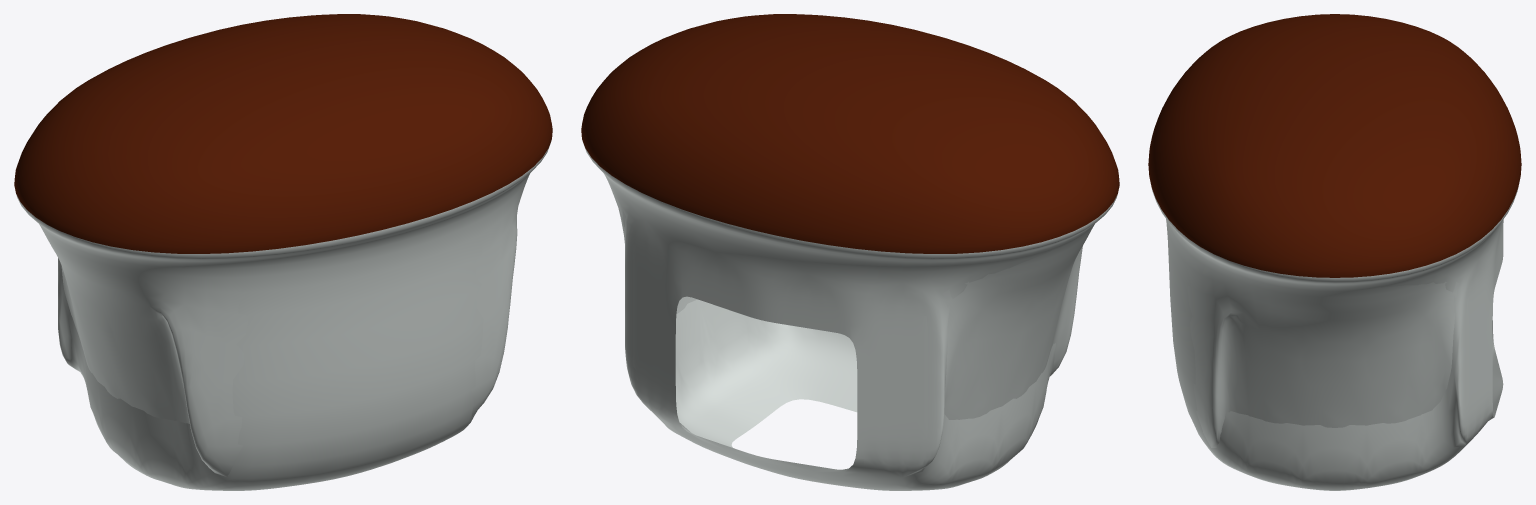
The model's file is eringi.fbx.
3 renders of one model, left to right at view 1: azimuth 30°, elevation 25°; view 2: azimuth 150°, elevation 25°; view 3: azimuth 270°, elevation 25°, orthographic. The views are drawn at different scales.
Parts seen in each view (by area): view 1: Cube; view 2: Cube; view 3: Cube.
Boxes of the visible parts, box(x1,y1,x2,y2) form: Cube: box(14, 14, 552, 490); Cube: box(581, 14, 1119, 490); Cube: box(1148, 14, 1521, 490).
Size of the model in its own units: 531 by 405 by 369.
